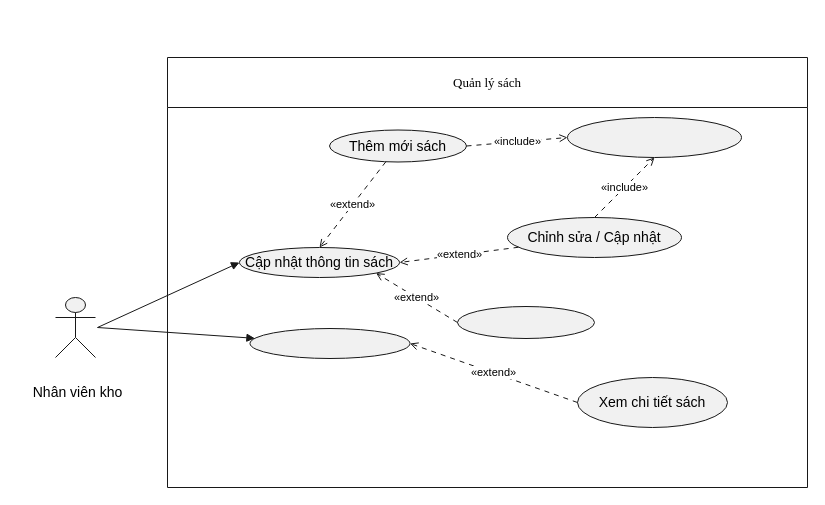
Some shapes in this 825 by 505 pixel diagram are drawn without their labels. The shapes that lost their labels are listed below. From the top down, each one's box as (x1, y1, x2, y2) in pixels, then its label:
(566, 116, 742, 158): Kiểm tra dữ liệu
(456, 306, 594, 338): Xóa sách
(249, 328, 410, 358): Tra cứu thông tin sách
